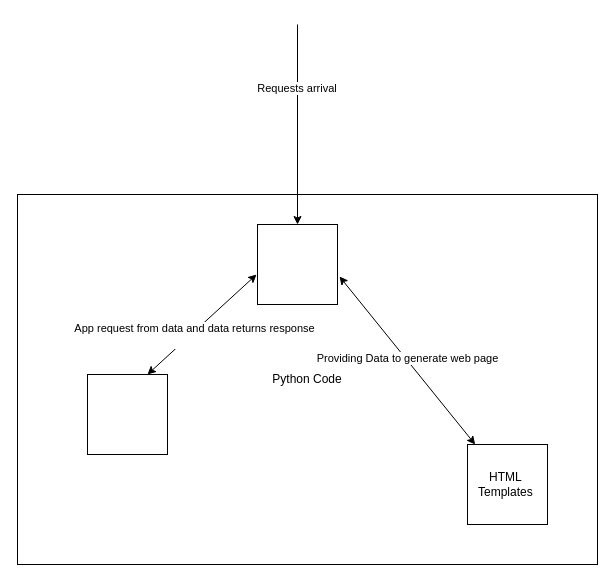
Some shapes in this 615 by 582 pixel diagram are drawn without their labels. The shapes that lost their labels are listed below. From the top down, each one's centre as x and y in pixels, then its label:
At (297,264): "App.py (structure)".
At (127,414): "Data".
